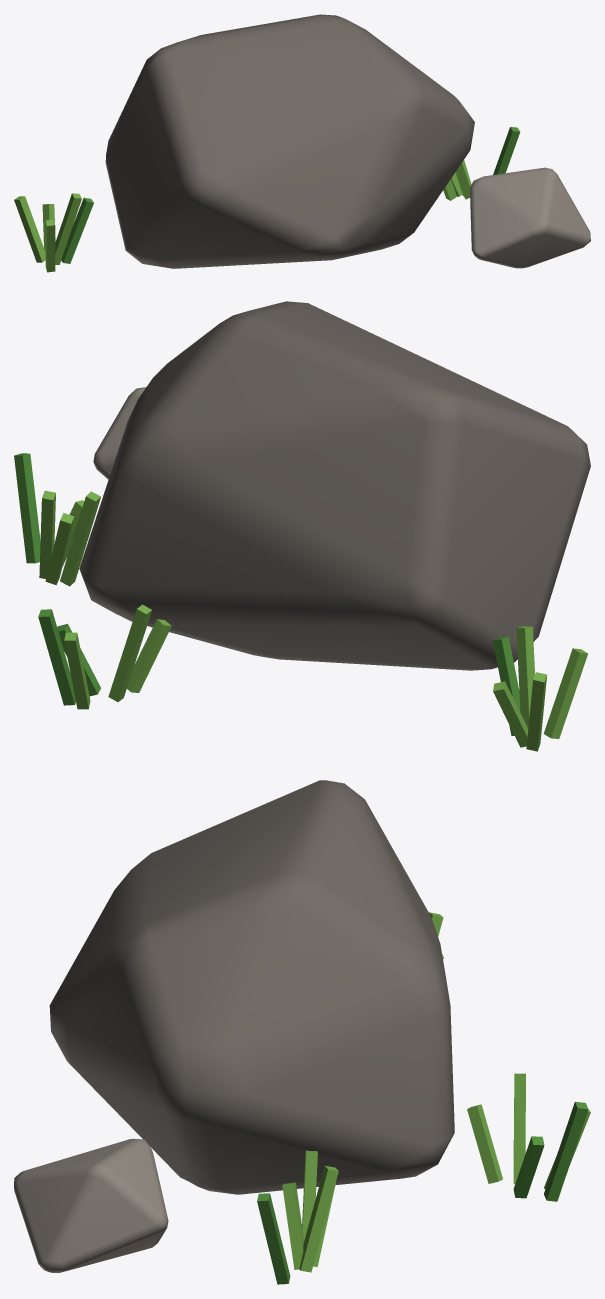
File: rocher_prairie_1.glb
3 renders of one model, top to bottom at view 1: azimuth 30°, elevation 25°; view 2: azimuth 150°, elevation 25°; view 3: azimuth 270°, elevation 25°, orthographic. The views are drawn at different scales.
Visible parts, largest first — view 1: roche_pierre.012, roche_pierre_claire.006, herbe_feuille_claire.002, herbe_feuille.004; view 2: roche_pierre.012, herbe_feuille_claire.002, herbe_feuille.004, roche_pierre_claire.006; view 3: roche_pierre.012, roche_pierre_claire.006, herbe_feuille_claire.002, herbe_feuille.004.
Boxes of the visible parts, x1,y1,x2,y2 form: roche_pierre.012: (105,14,474,268); roche_pierre_claire.006: (470,167,590,268); herbe_feuille_claire.002: (14,160,471,272); herbe_feuille.004: (61,127,520,263); roche_pierre.012: (79,301,590,670); herbe_feuille_claire.002: (39,490,587,751); herbe_feuille.004: (14,453,520,735); roche_pierre_claire.006: (93,387,145,479); roche_pierre.012: (49,780,454,1194); roche_pierre_claire.006: (14,1138,168,1273); herbe_feuille_claire.002: (282,912,590,1272); herbe_feuille.004: (257,1101,588,1284).
Bounding box in the file's own units: 1.07 × 0.5017 × 0.8677.
